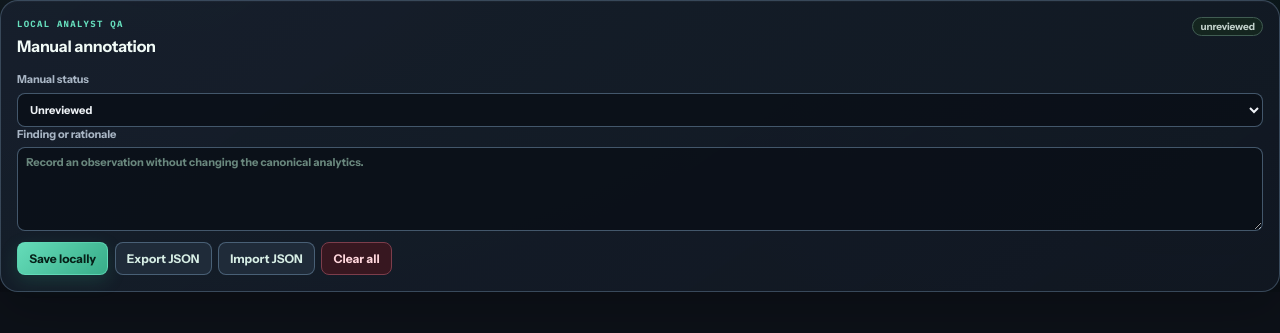
Scenario: workbench components › saves a browser-local annotation through the annotation store
The width and height of the screenshot is (1280, 333).
Select "Suspicious" in the dropdown labelled "Manual status". click: (640, 110)
box: [17, 92, 1263, 126]
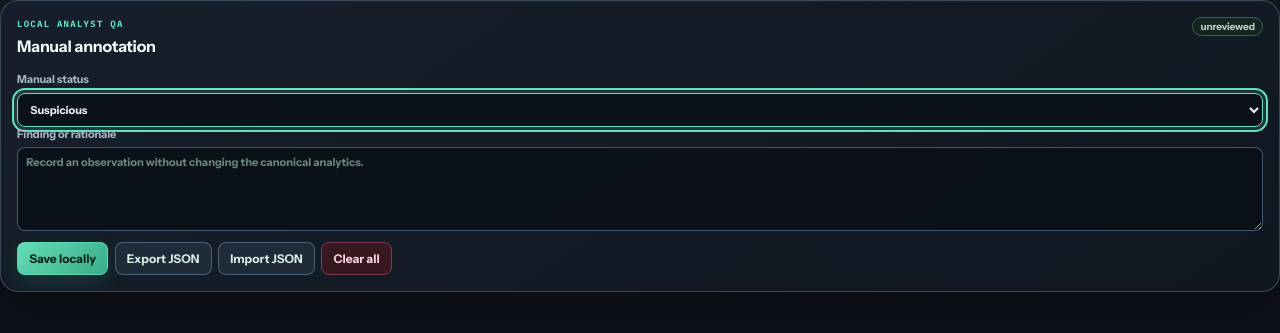
Type "Receiver frame is suspicious." into the text box labelled "Finding or rationale". click: (640, 189)
box: [17, 147, 1263, 231]
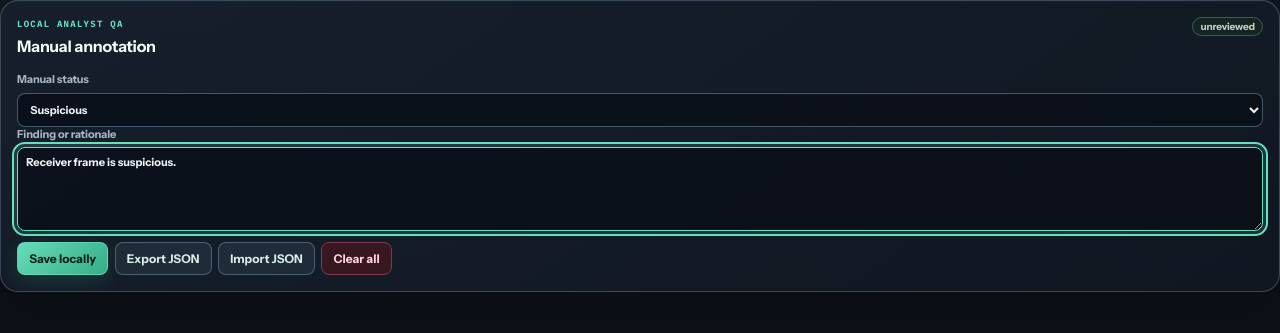
Click the button "Save locally". click: (63, 259)
box: [17, 242, 108, 275]
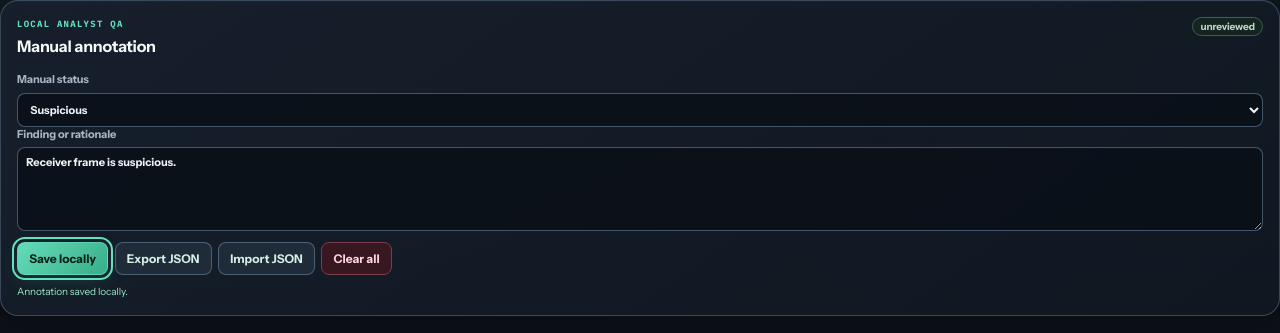
Check: the text "Annotation saved locally." is shown, box [17, 285, 128, 298]
